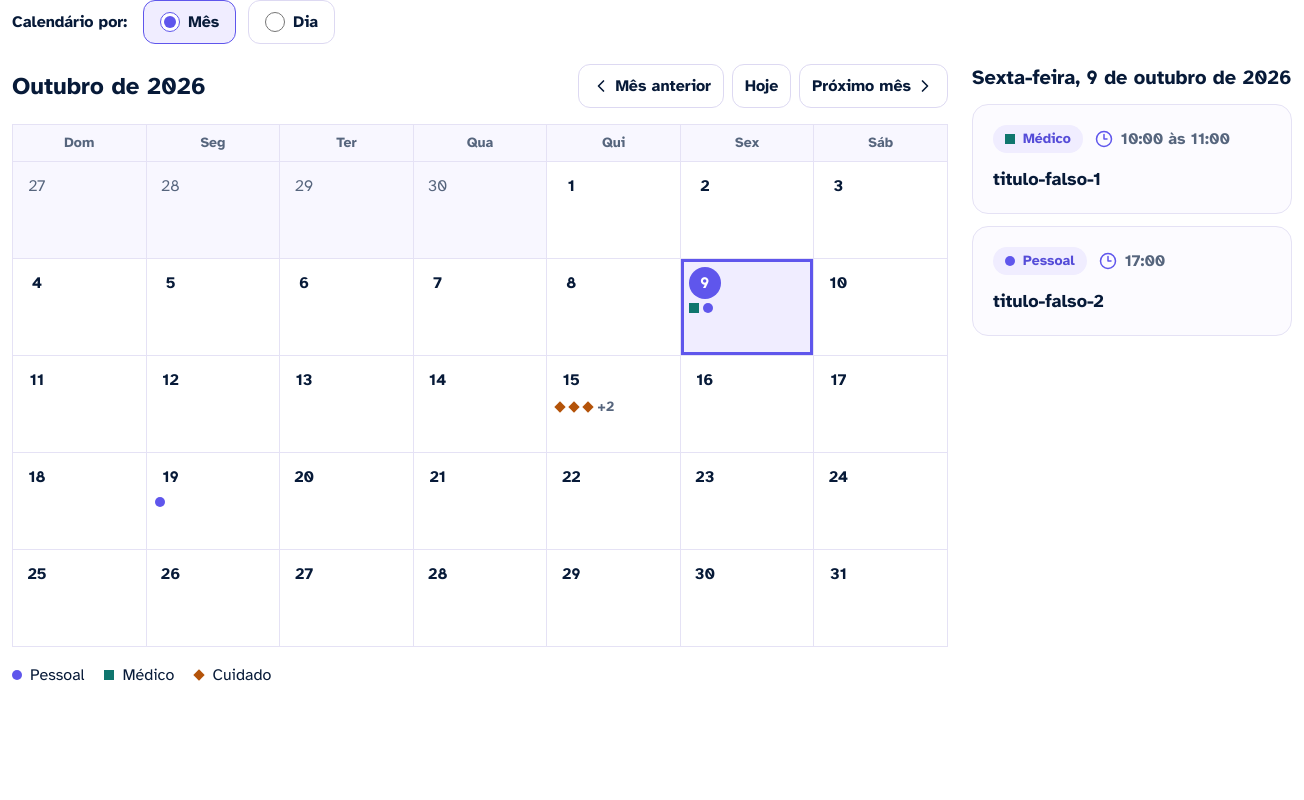
Test: Calendario: visão Dia › compromisso que cruza a meia-noite avisa que continua no dia seguinte
Click the button named "19 de outubro" at (213, 501), box [147, 453, 279, 549]
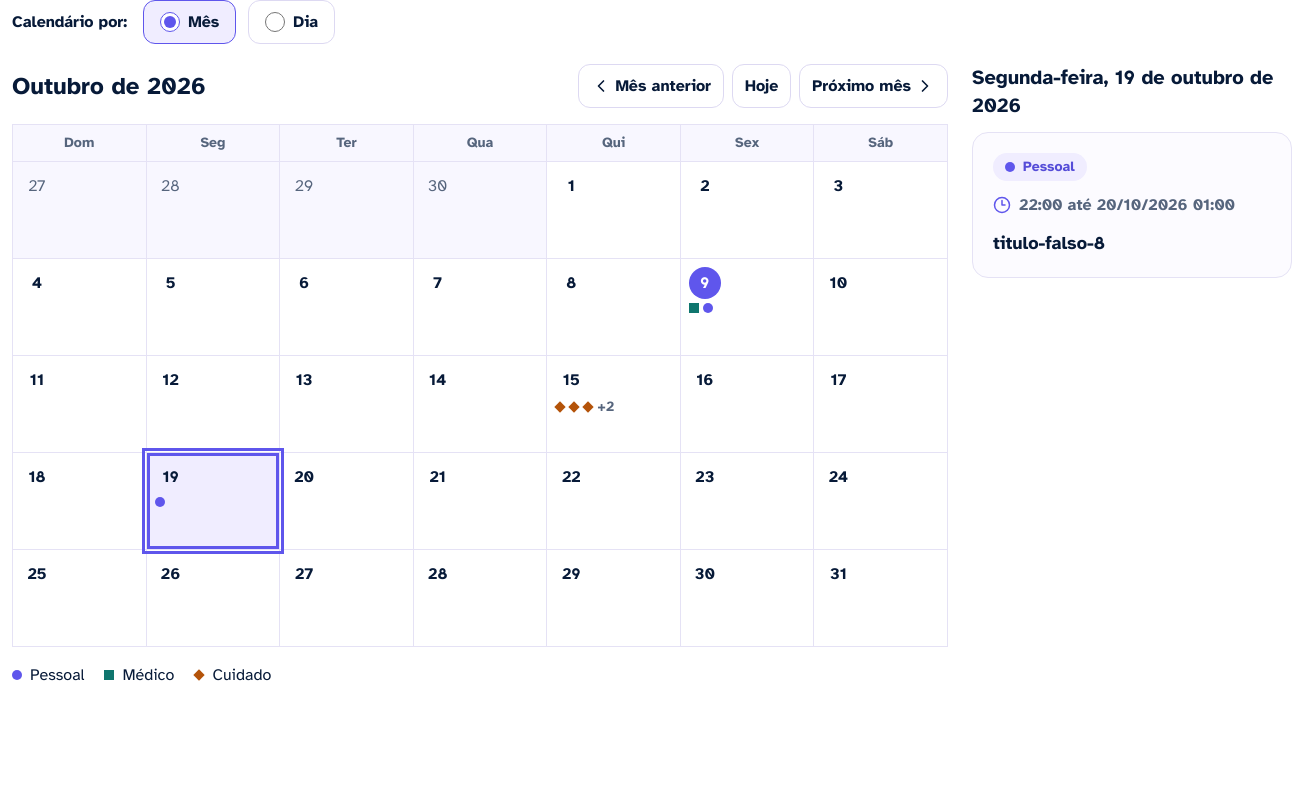
Click the radio button labelled "Dia" at (275, 22), box [265, 12, 285, 32]
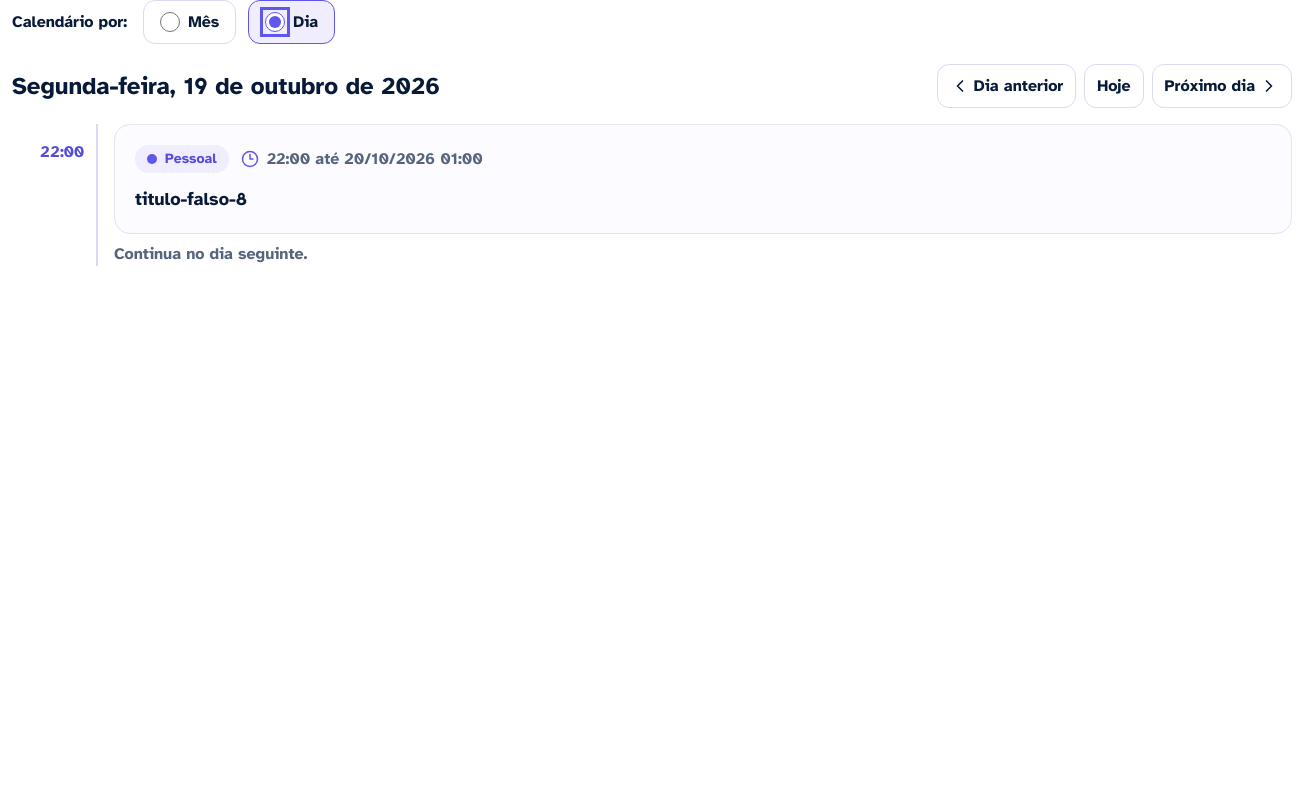
Check: the heading "Segunda-feira, 19 de outubro de 2026" is shown, box [12, 70, 440, 102]
Check: the text "Continua no dia seguinte." is shown, box [114, 244, 308, 264]
